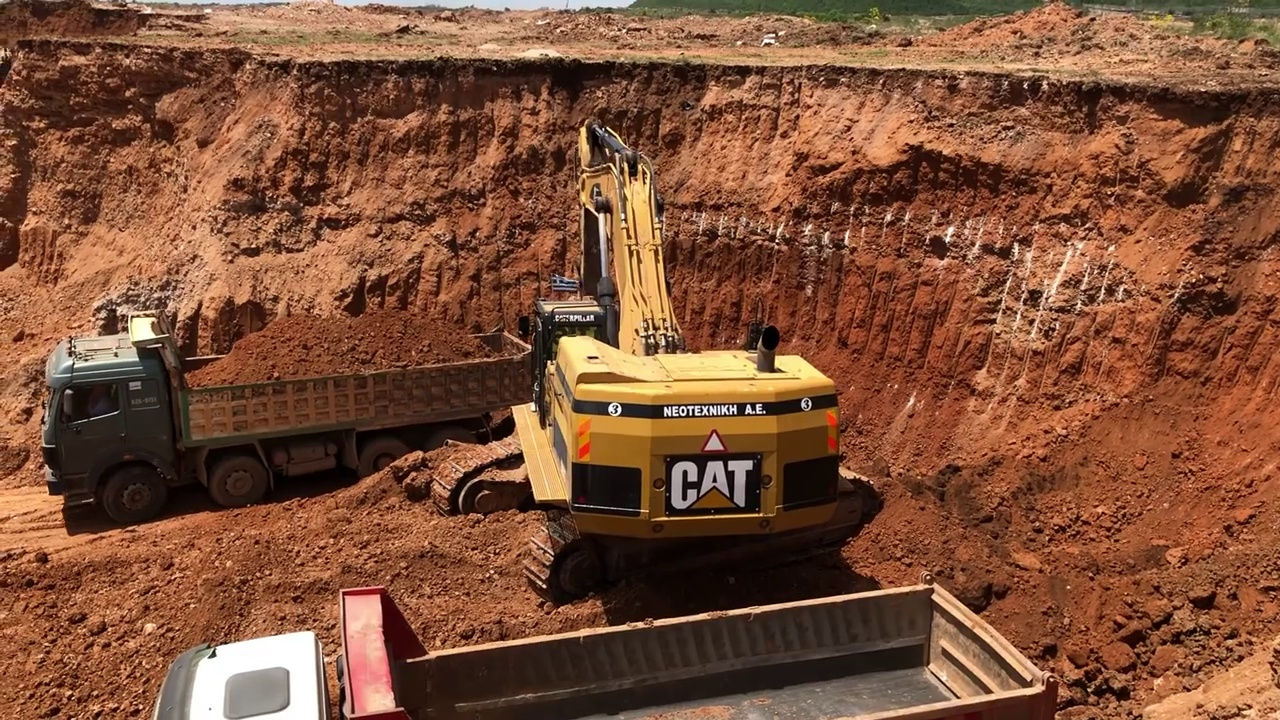excavator: (432, 116, 883, 596)
truck: (124, 570, 1059, 720), (36, 316, 536, 513)
